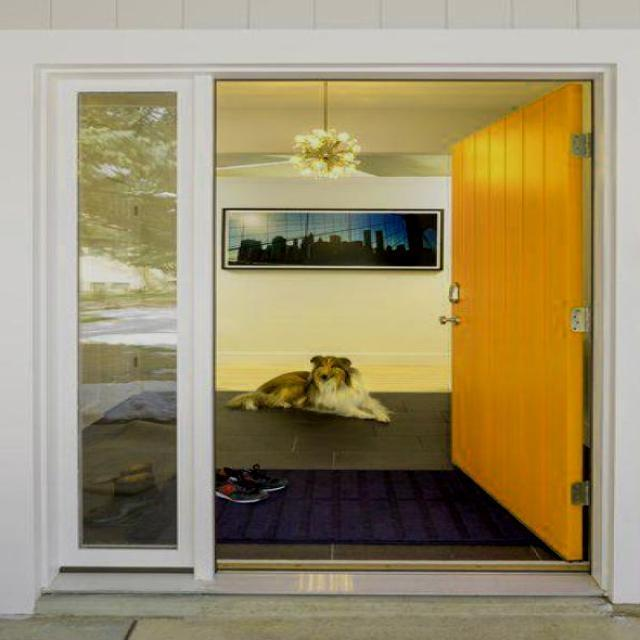door: (441, 69, 596, 565)
